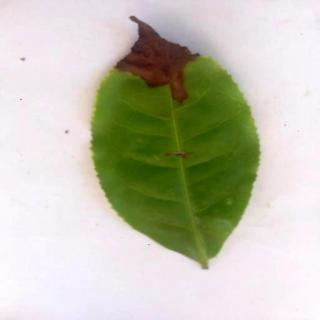Brown Blight: (92, 17, 262, 272)
